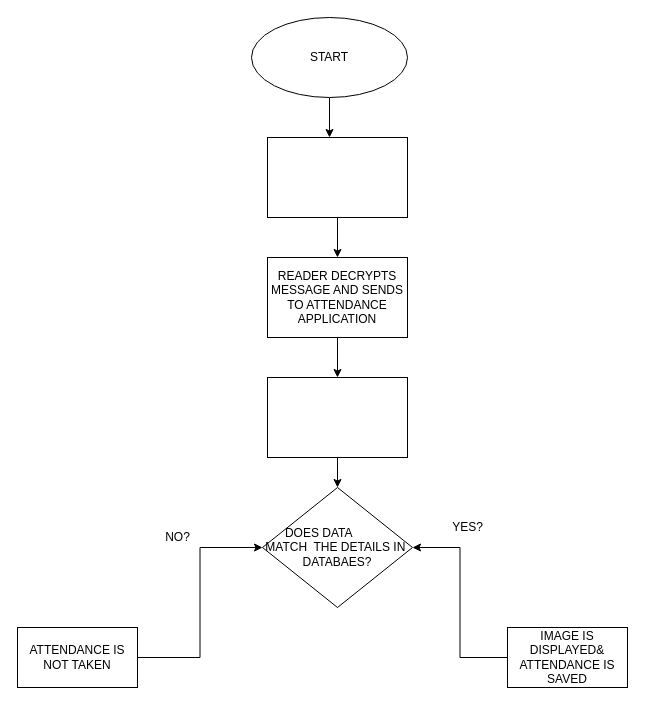
The diagram is 645 pixels wide and 705 high, and some of its shapes have lost their labels. Each missing label, with the box of its shape:
ATTENDANCE SYSTEM CHECKS DATA AND COMPARES WITH ITS DATABASE: (266, 376, 408, 458)
RFID TAG SENDS DATA TO RFID READER: (266, 136, 408, 218)
